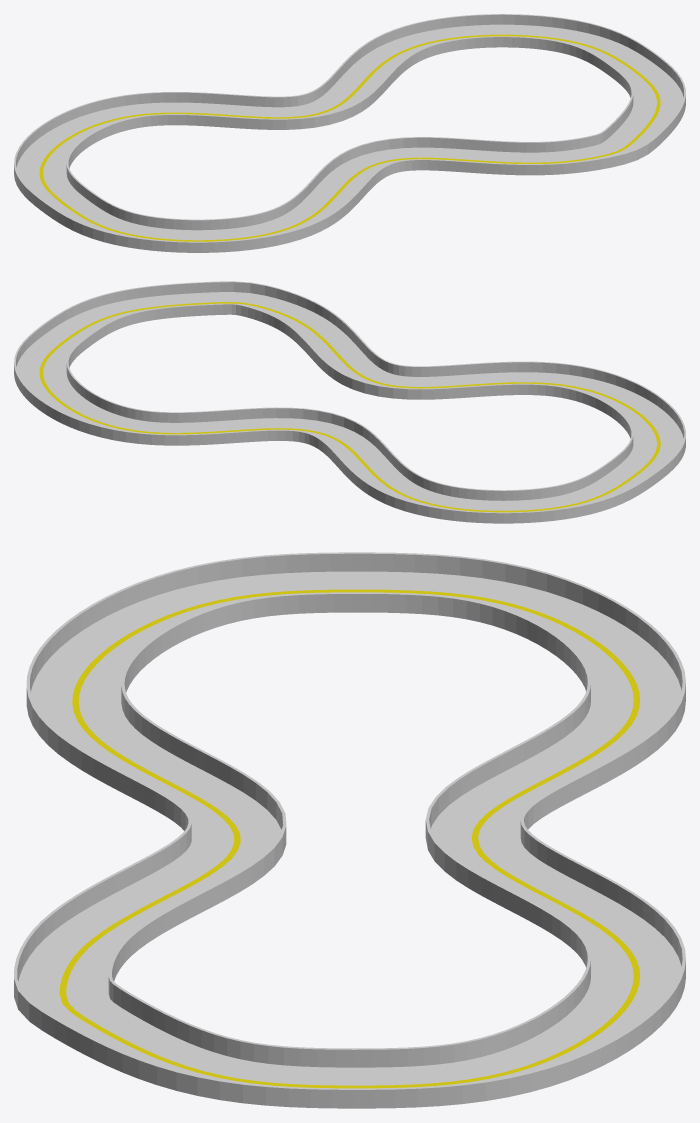
The model's file is track.fbx.
3 renders of one model, top to bottom at view 1: azimuth 30°, elevation 25°; view 2: azimuth 150°, elevation 25°; view 3: azimuth 270°, elevation 25°, orthographic. The views are drawn at different scales.
Visible parts, largest first — view 1: Cube; view 2: Cube; view 3: Cube.
Part boxes in pixels (x1=…): Cube: x1=14, y1=14, x2=685, y2=252; Cube: x1=14, y1=281, x2=685, y2=523; Cube: x1=14, y1=552, x2=685, y2=1108.
Size of the model in its own units: 1296 by 21 by 685.
